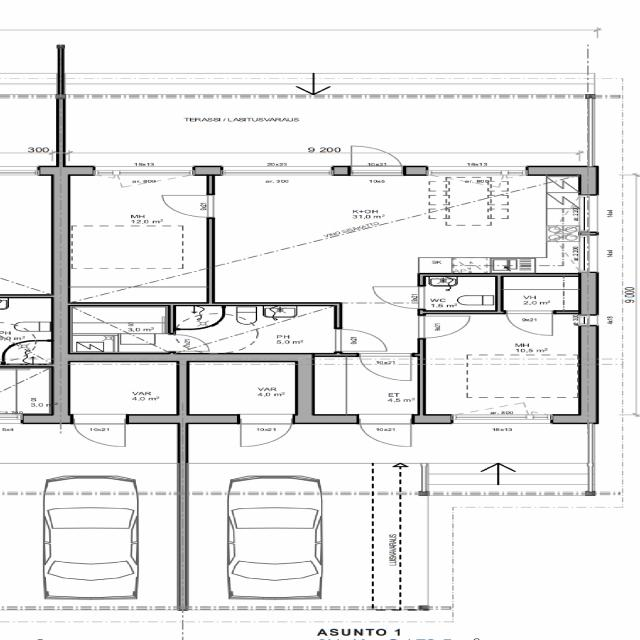door: (346, 139, 396, 173), (237, 408, 286, 441), (355, 408, 403, 441), (355, 348, 405, 376), (499, 306, 545, 332), (330, 324, 384, 346), (412, 312, 464, 333), (368, 283, 420, 304), (160, 193, 212, 214), (165, 329, 207, 346)
